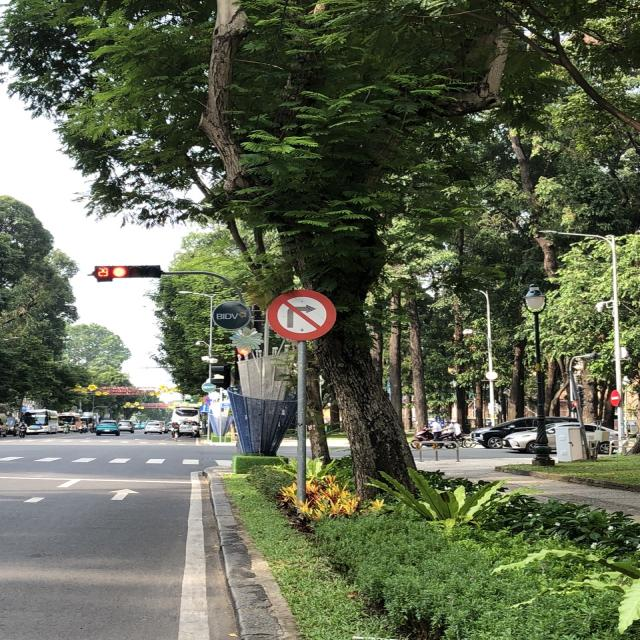Bien bao cam re phai: (266, 283, 343, 343)
